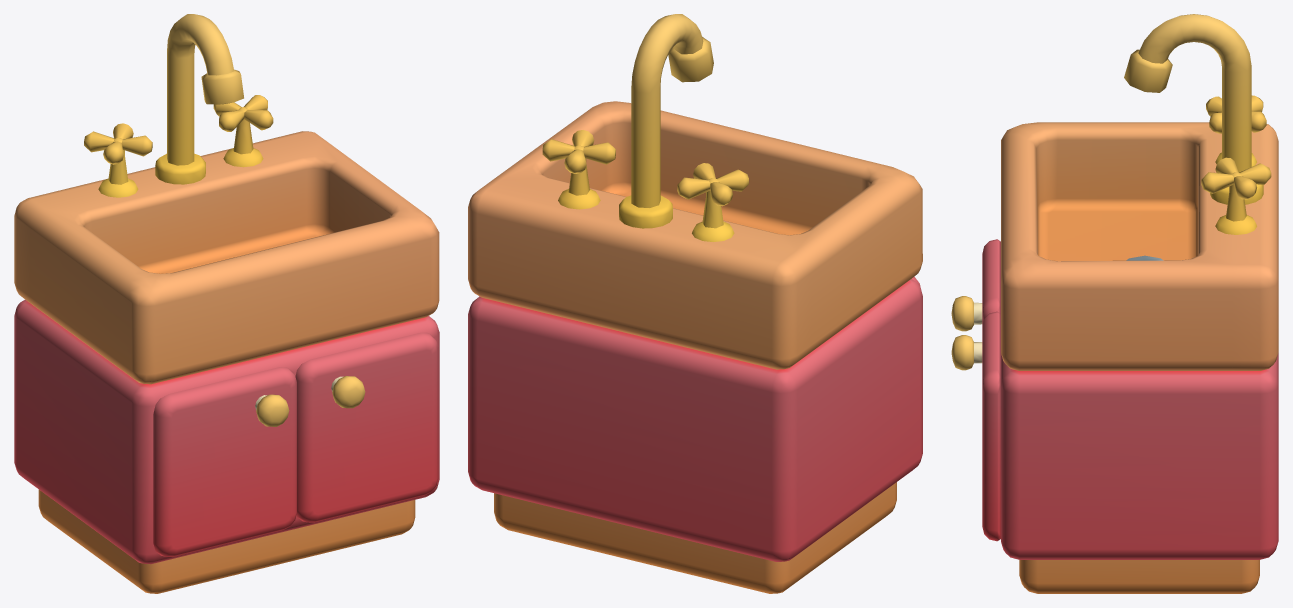
Rendered from Kitchen_sink_001.glb.
3 renders of one model, left to right at view 1: azimuth 30°, elevation 25°; view 2: azimuth 150°, elevation 25°; view 3: azimuth 270°, elevation 25°, orthographic. The views are drawn at different scales.
Visible parts, largest first — view 1: Kitchen_sink_001, Kitchen_sink_door_001, Kitchen_sink_door_002; view 2: Kitchen_sink_001; view 3: Kitchen_sink_001, Kitchen_sink_door_002, Kitchen_sink_door_001.
Boxes of the visible parts, x1,y1,x2,y2 form: Kitchen_sink_001: (14, 14, 439, 593); Kitchen_sink_door_001: (153, 367, 296, 556); Kitchen_sink_door_002: (295, 332, 438, 522); Kitchen_sink_001: (468, 14, 922, 593); Kitchen_sink_001: (1001, 14, 1278, 593); Kitchen_sink_door_002: (951, 311, 1000, 541); Kitchen_sink_door_001: (951, 239, 1000, 331).
Bounding box in the file's own units: 0.8503 × 1.31 × 0.7511.
Materials: 1 (1 with a texture image).
